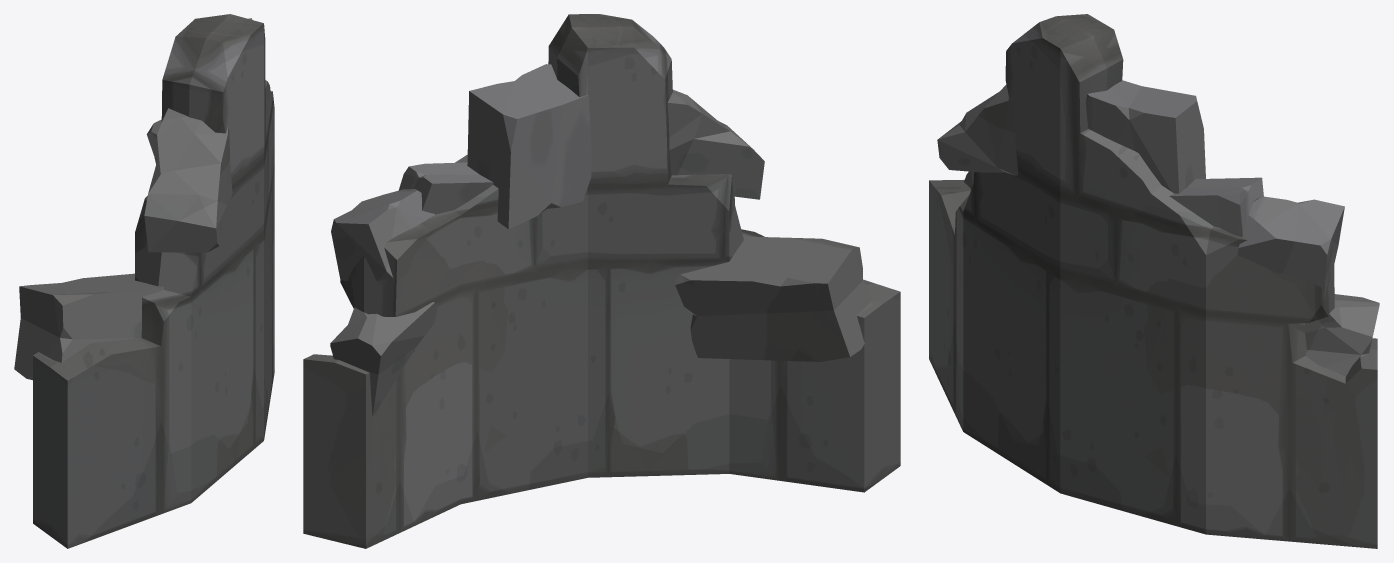
The model's file is SM_Bld_Wall_L_Curve_Half_Damaged_02.fbx.
The picture shows the model from 3 angles, left to right: view 1: azimuth 30°, elevation 25°; view 2: azimuth 150°, elevation 25°; view 3: azimuth 270°, elevation 25°; orthographic projection. The views are drawn at different scales.
Parts seen in each view (by area): view 1: SM_Bld_Wall_L_Curve_Half_Damaged_02; view 2: SM_Bld_Wall_L_Curve_Half_Damaged_02; view 3: SM_Bld_Wall_L_Curve_Half_Damaged_02.
Part boxes in pixels (x1,y1,x2,y2): SM_Bld_Wall_L_Curve_Half_Damaged_02: (14, 14, 274, 548); SM_Bld_Wall_L_Curve_Half_Damaged_02: (303, 14, 900, 548); SM_Bld_Wall_L_Curve_Half_Damaged_02: (929, 14, 1379, 548).
Bounding box in the file's own units: 274 × 300 × 274.
